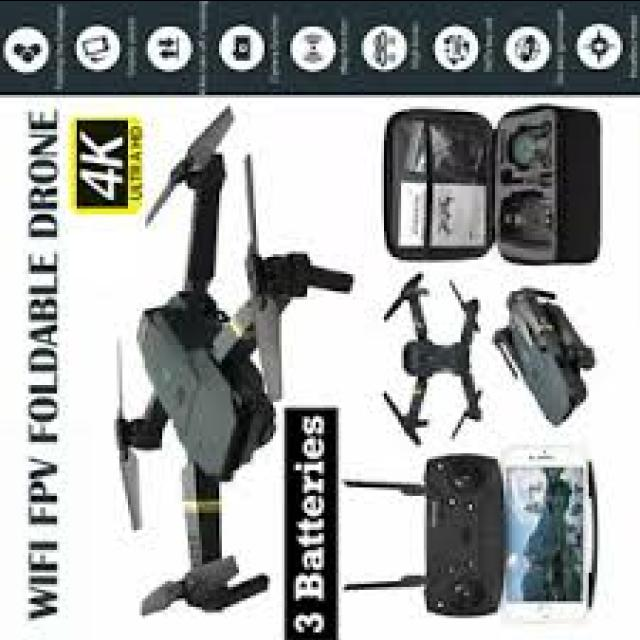drone: (98, 101, 360, 623), (378, 271, 493, 441)
